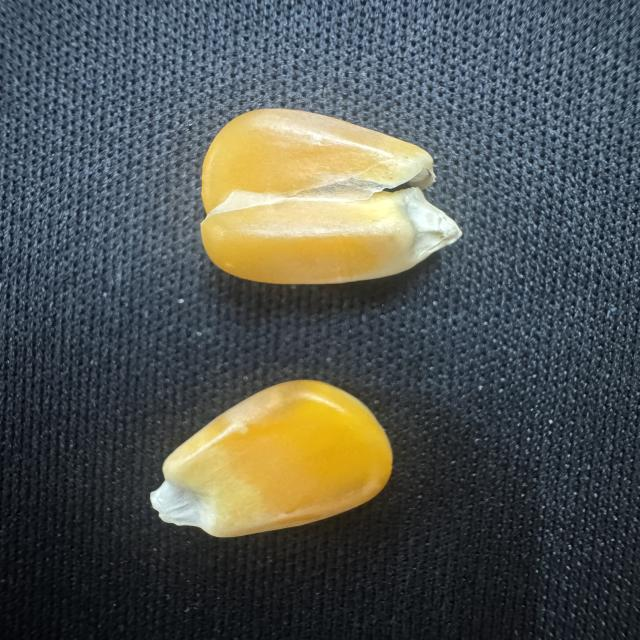Bad-Seed: (191, 97, 465, 305)
Good-Seed: (132, 369, 400, 551)
